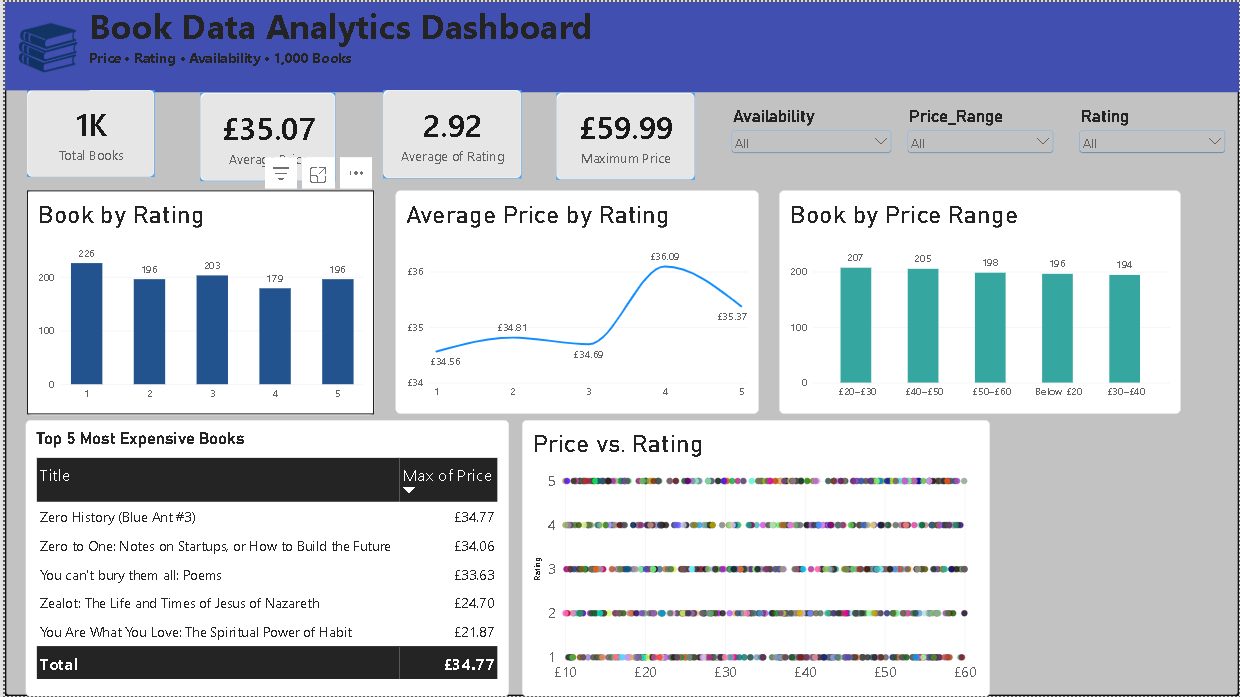

The page's visual inventory and layout, read from the dashboard file:
{"tool":"powerbi","page":{"name":"Page 1","canvas":[1920,1080],"ordinal":0},"visuals":[{"type":"textbox","box":[130.6,0,1789,140.2],"z":0},{"type":"cardVisual","title":"Total Books","fields":{"Data":["CountNonNull(books_dataset_with_price_range.Title)"]},"box":[33.8,137.8,198.2,135.4],"z":1000},{"type":"cardVisual","fields":{"Data":["Avg(books_dataset_with_price_range.Price)"]},"box":[304.6,140.2,210,137.5],"z":2000},{"type":"cardVisual","fields":{"Data":["Avg(books_dataset_with_price_range.Rating)"]},"box":[587.5,137.8,215.2,137.8],"z":3000},{"type":"cardVisual","fields":{"Data":["Max(books_dataset_with_price_range.Price)"]},"box":[858.3,140.2,215.2,135.4],"z":4000},{"type":"columnChart","title":"Book by Rating","fields":{"Category":["books_dataset_with_price_range.Rating"],"Y":["CountNonNull(books_dataset_with_price_range.Title)"]},"box":[33.8,292.5,540,350],"z":5000},{"type":"lineChart","title":"Average Price by Rating","fields":{"Category":["books_dataset_with_price_range.Rating"],"Y":["Avg(books_dataset_with_price_range.Price)"]},"box":[607.5,292.5,565,347.5],"z":5001},{"type":"columnChart","title":"Book by Price Range","fields":{"Category":["books_dataset_with_price_range.Price_Range"],"Y":["CountNonNull(books_dataset_with_price_range.Title)"]},"box":[1205,292.5,625,347.5],"z":5002},{"type":"scatterChart","title":"Price vs. Rating","fields":{"Series":["books_dataset_with_price_range.Title"],"X":["books_dataset_with_price_range.Price"],"Y":["books_dataset_with_price_range.Rating"]},"box":[804.3,650.3,727.7,430.3],"z":5003},{"type":"tableEx","title":"Top 5 Most Expensive Books","fields":{"Values":["books_dataset_with_price_range.Title","Max(books_dataset_with_price_range.Price)"]},"box":[32.1,650.3,751.9,430.3],"z":5004},{"type":"slicer","fields":{"Values":["books_dataset_with_price_range.Rating"]},"box":[1665.7,162,236.9,87],"z":5005},{"type":"slicer","fields":{"Values":["books_dataset_with_price_range.Price_Range"]},"box":[1399.8,162,236.9,87],"z":5006},{"type":"slicer","fields":{"Values":["books_dataset_with_price_range.Availability"]},"box":[1124.2,162,258.7,87],"z":5007},{"type":"image","box":[0,0,130.6,137.8],"z":5008}]}

Visuals, with their boxes on the page's 1920x1080 design canvas (x1, y1, x2, y2). These are canvas units, not pixel positions in the 1240x697 screenshot, which may show the page scaled, cropped or inside an application window:
textbox: 131, 0, 1920, 140
"Total Books" cardVisual: 34, 138, 232, 273
cardVisual - Avg(books_dataset_with_price_range.Price): 305, 140, 515, 278
cardVisual - Avg(books_dataset_with_price_range.Rating): 588, 138, 803, 276
cardVisual - Max(books_dataset_with_price_range.Price): 858, 140, 1074, 276
"Book by Rating" columnChart: 34, 292, 574, 642
"Average Price by Rating" lineChart: 608, 292, 1172, 640
"Book by Price Range" columnChart: 1205, 292, 1830, 640
"Price vs. Rating" scatterChart: 804, 650, 1532, 1081
"Top 5 Most Expensive Books" tableEx: 32, 650, 784, 1081
slicer - books_dataset_with_price_range.Rating: 1666, 162, 1903, 249
slicer - books_dataset_with_price_range.Price_Range: 1400, 162, 1637, 249
slicer - books_dataset_with_price_range.Availability: 1124, 162, 1383, 249
image: 0, 0, 131, 138
